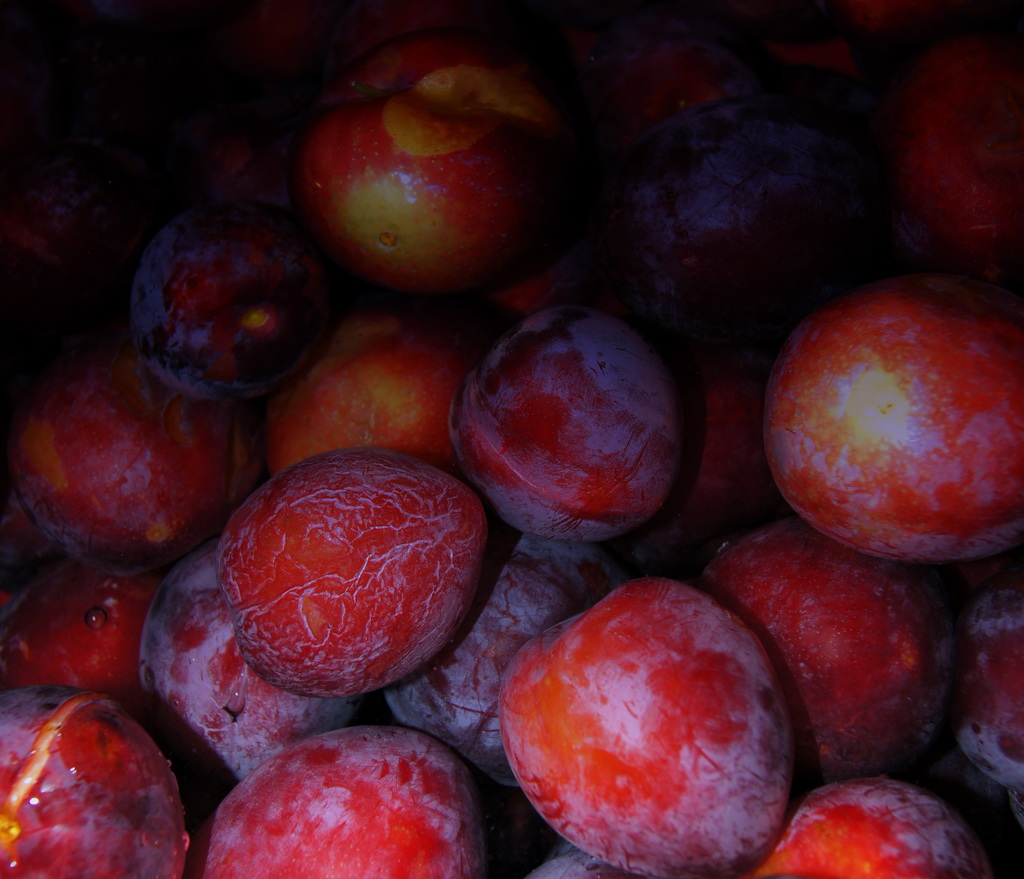Apple: (494, 563, 787, 876)
